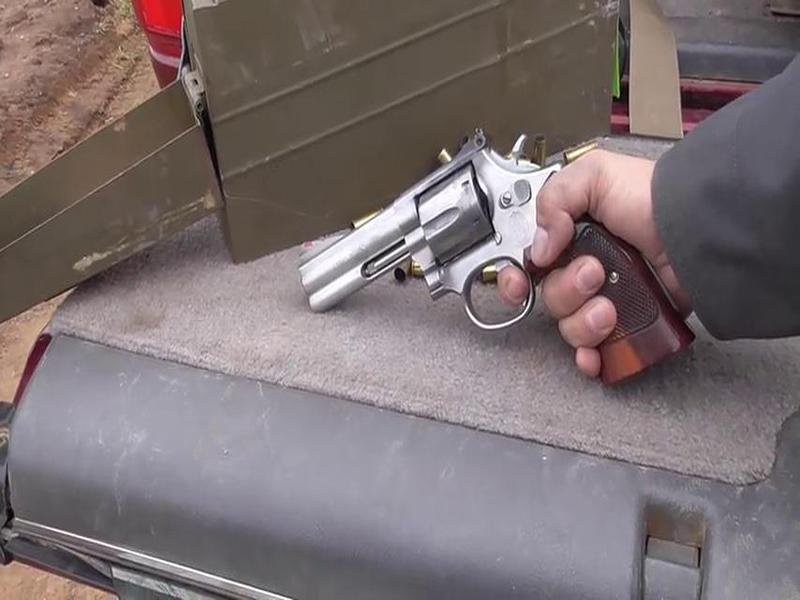Revolver: (274, 136, 694, 374)
